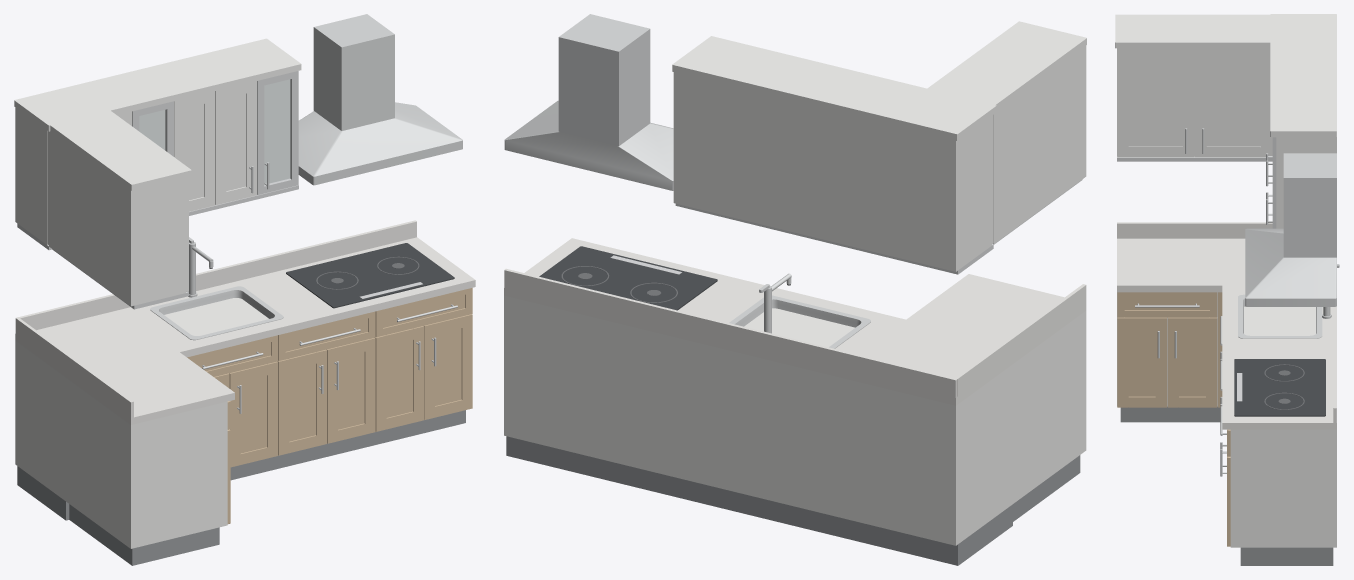
3 views of the same model, side by side, from view 1: azimuth 30°, elevation 25°; view 2: azimuth 150°, elevation 25°; view 3: azimuth 270°, elevation 25° (orthographic). The views are drawn at different scales.
Parts seen in each view (by area): view 1: Tủ bếp chữ L Dài cạnh chính=2400; Dài cạnh phụ=1200; Sâu tủ ; view 2: Tủ bếp chữ L Dài cạnh chính=2400; Dài cạnh phụ=1200; Sâu tủ ; view 3: Tủ bếp chữ L Dài cạnh chính=2400; Dài cạnh phụ=1200; Sâu tủ .
Part boxes in pixels (x1,y1,x2,y2): Tủ bếp chữ L Dài cạnh chính=2400; Dài cạnh phụ=1200; Sâu tủ : [14, 14, 475, 565]; Tủ bếp chữ L Dài cạnh chính=2400; Dài cạnh phụ=1200; Sâu tủ : [504, 14, 1086, 565]; Tủ bếp chữ L Dài cạnh chính=2400; Dài cạnh phụ=1200; Sâu tủ : [1115, 14, 1339, 565].
Size of the model in its own units: 2.41 by 2.2 by 1.22.
